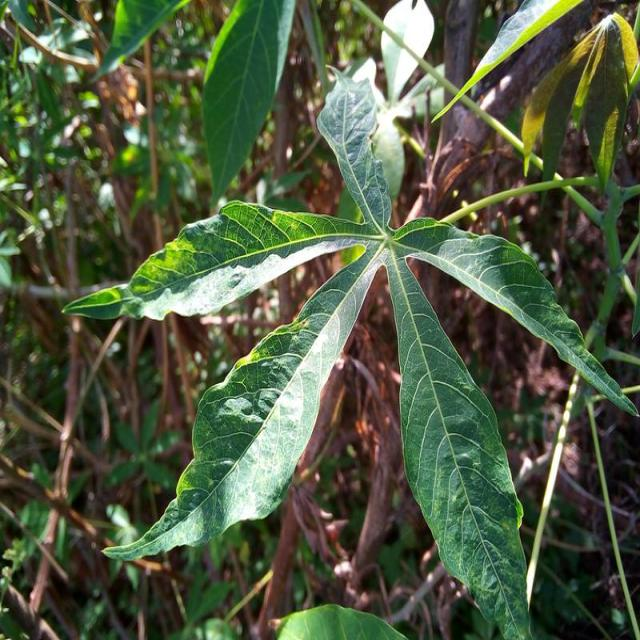cassava leaf: (62, 63, 637, 637), (100, 238, 384, 562), (384, 241, 532, 638), (200, 0, 296, 209)
